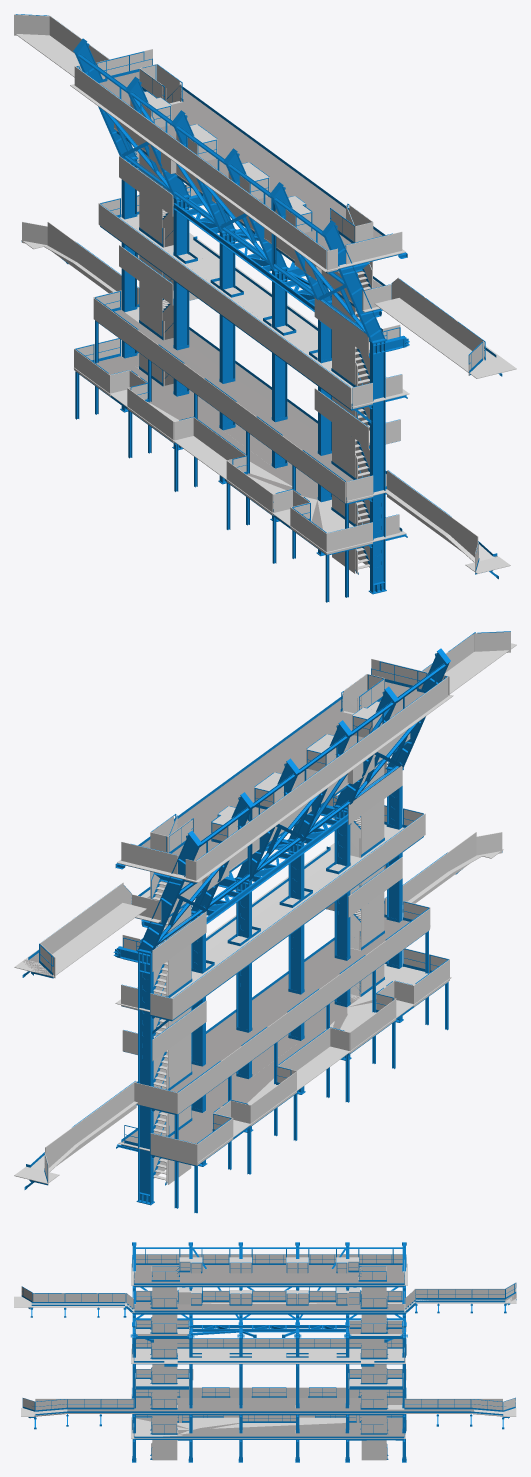
The model's file is HS US15 Side.fbx.
3 views of the same model, one above another, from view 1: azimuth 30°, elevation 25°; view 2: azimuth 150°, elevation 25°; view 3: azimuth 270°, elevation 25° (orthographic). The views are drawn at different scales.
Parts seen in each view (by area): view 1: !HS US15 Platforms, HS US15 Handrail 4, HS US15 Handrail 2.005, HS US15 Handrail 7.013, HS US15 Handrail 7.020, HS US15 Floor 1, HS US15 Handrail 7.028, HS US15 Floor 6, HS US15 Handrail 2.010, HS US15 Floor 4.003, HS US15 Handrail 2.008, HS US15 Handrail 6.016 (+23 smaller); view 2: !HS US15 Platforms, HS US15 Handrail 4, HS US15 Handrail 2.005, HS US15 Handrail 7.013, HS US15 Handrail 7.028, HS US15 Floor 1, HS US15 Handrail 7.020, HS US15 Floor 6.001, HS US15 Handrail 2.008, HS US15 Floor 4.003, HS US15 Handrail 2.010, HS US15 Handrail 6.007 (+22 smaller); view 3: !HS US15 Platforms, HS US15 Handrail 7.015, HS US15 Handrail 7.021, HS US15 Handrail 2.005, HS US15 Handrail 7.013, HS US15 Handrail 4, HS US15 Floor 1, HS US15 Handrail 6.004, HS US15 Floor 4.001, HS US15 Floor 4, HS US15 Floor 4.003, HS US15 Handrail 2.010 (+15 smaller).
Part boxes in pixels (x1,y1,x2,y2): !HS US15 Platforms: [15, 14, 502, 602]; HS US15 Handrail 4: [98, 203, 351, 409]; HS US15 Handrail 2.005: [93, 298, 345, 503]; HS US15 Handrail 7.013: [74, 66, 326, 269]; HS US15 Handrail 7.020: [332, 210, 355, 573]; HS US15 Floor 1: [74, 367, 374, 553]; HS US15 Handrail 7.028: [139, 68, 162, 382]; HS US15 Floor 6: [375, 298, 516, 378]; HS US15 Handrail 2.010: [387, 470, 478, 557]; HS US15 Floor 4.003: [163, 245, 331, 370]; HS US15 Handrail 2.008: [47, 222, 138, 304]; HS US15 Handrail 6.016: [398, 278, 484, 358]; !HS US15 Platforms: [22, 631, 510, 1213]; HS US15 Handrail 4: [172, 813, 425, 1019]; HS US15 Handrail 2.005: [177, 908, 429, 1114]; HS US15 Handrail 7.013: [196, 677, 448, 879]; HS US15 Handrail 7.028: [168, 820, 191, 1184]; HS US15 Floor 1: [198, 966, 451, 1163]; HS US15 Handrail 7.020: [361, 680, 384, 993]; HS US15 Floor 6.001: [14, 903, 146, 976]; HS US15 Handrail 2.008: [45, 1081, 136, 1167]; HS US15 Floor 4.003: [191, 855, 360, 980]; HS US15 Handrail 2.010: [385, 832, 476, 914]; HS US15 Handrail 6.007: [40, 882, 123, 953]; !HS US15 Platforms: [21, 1242, 516, 1462]; HS US15 Handrail 7.015: [152, 1271, 177, 1460]; HS US15 Handrail 7.021: [361, 1271, 386, 1460]; HS US15 Handrail 2.005: [136, 1387, 402, 1397]; HS US15 Handrail 7.013: [136, 1254, 406, 1263]; HS US15 Handrail 4: [132, 1338, 402, 1347]; HS US15 Floor 1: [131, 1417, 402, 1429]; HS US15 Handrail 6.004: [136, 1290, 402, 1300]; HS US15 Floor 4.001: [131, 1348, 402, 1354]; HS US15 Floor 4: [131, 1359, 405, 1363]; HS US15 Floor 4.003: [178, 1354, 360, 1359]; HS US15 Handrail 2.010: [35, 1398, 134, 1410].
Size of what is drawn, in the model's own units: 480 by 2052 by 4524.
